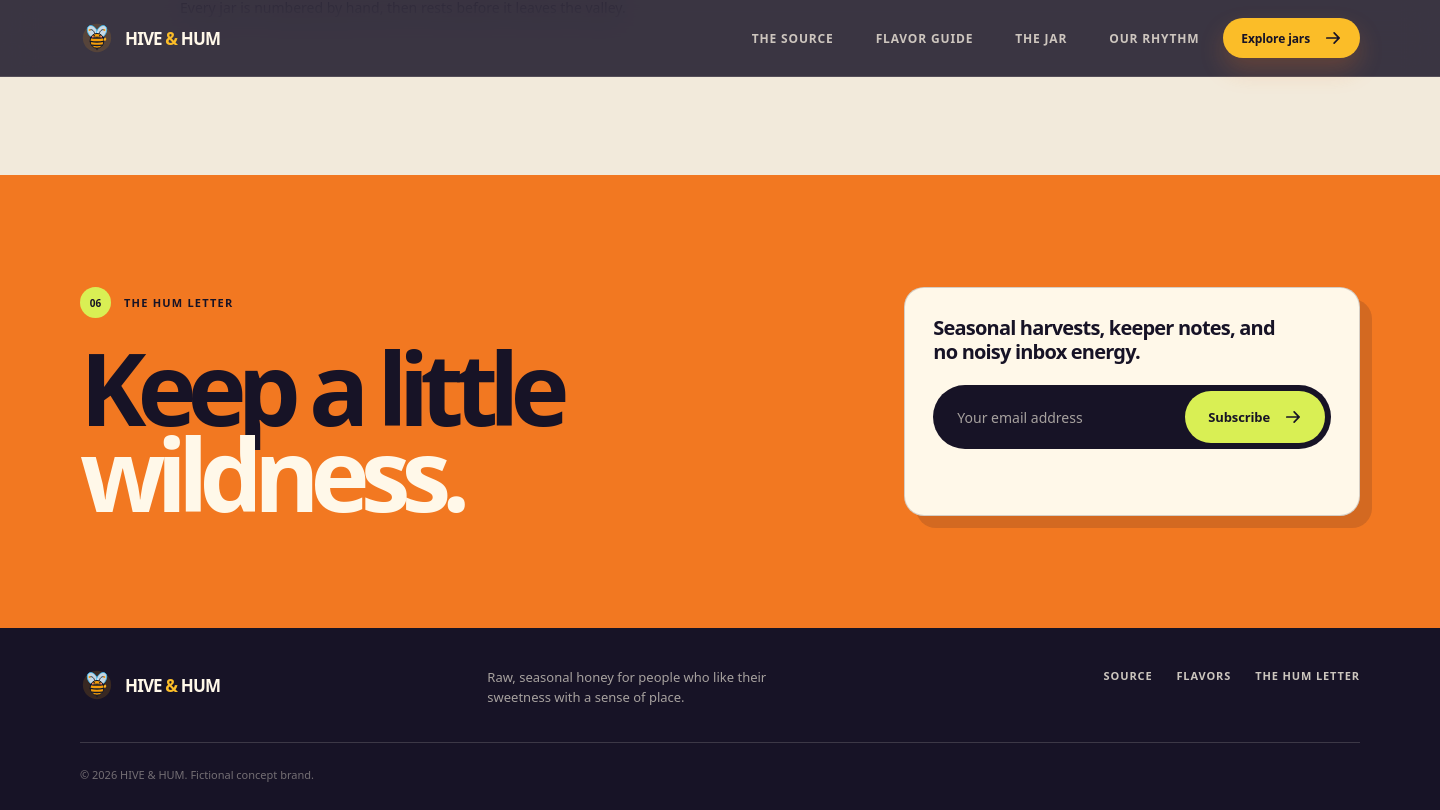
it: HIVE & HUM editorial landing page contract › handles valid newsletter submission with success confirmation
The image size is (1440, 810).
(page scrolled)
Type "beekeeper@example.com" into the field with placeholder "Your email address" at (1058, 417), box x1=939 y1=391 x2=1177 y2=443
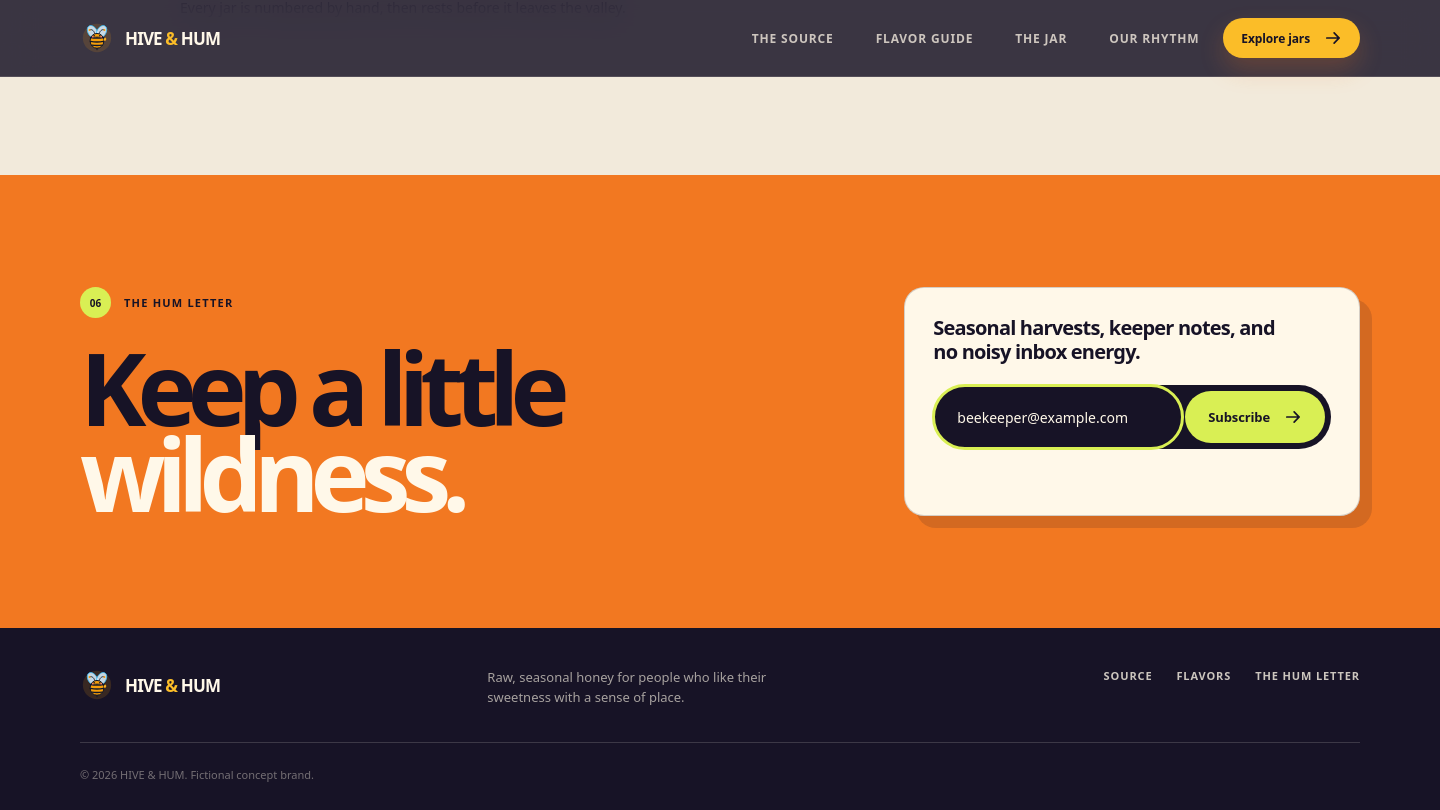
Click the button "Subscribe" at (1255, 417), box x1=1185 y1=391 x2=1325 y2=443
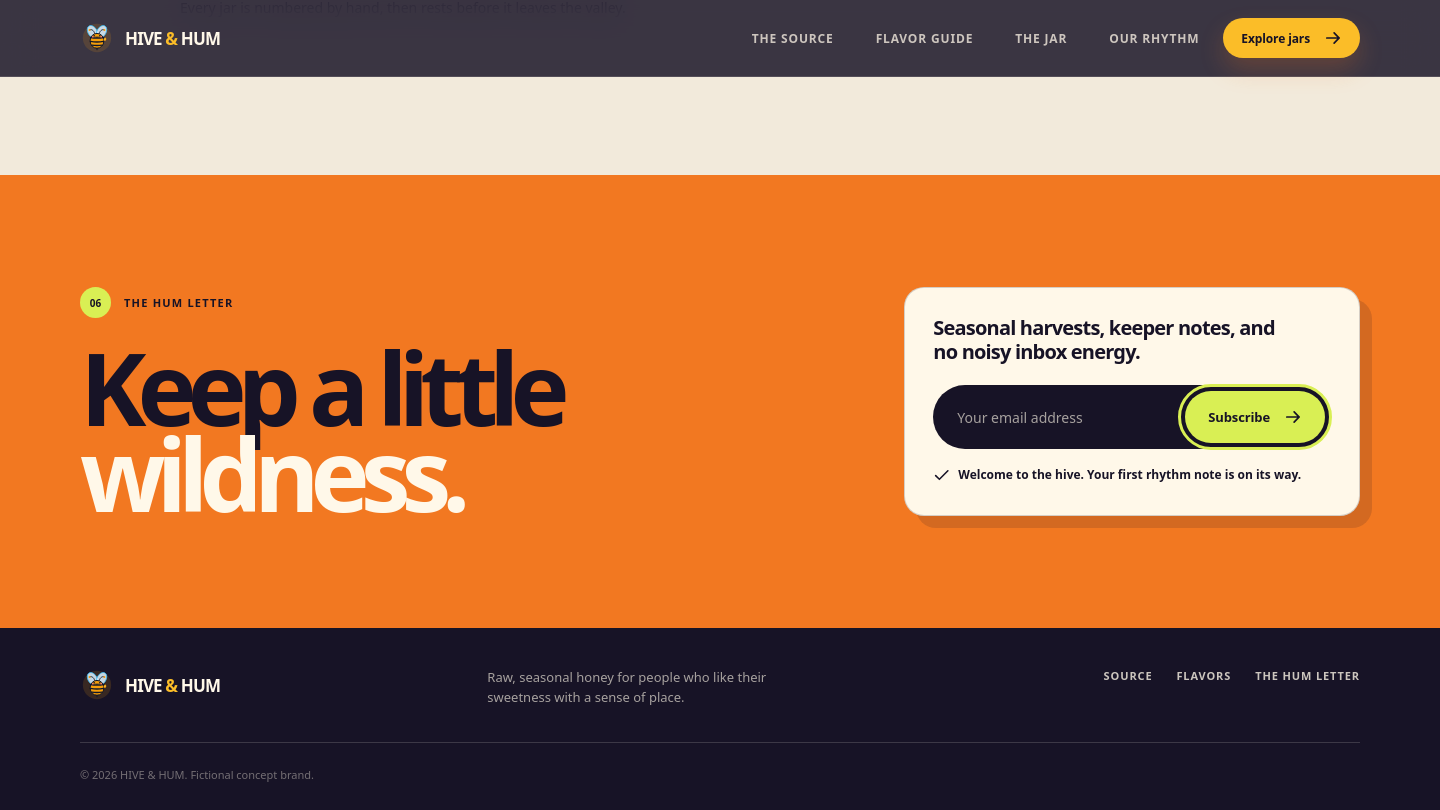
Check: the message shows "first rhythm note is on its way", box x1=958 y1=466 x2=1301 y2=483
Check: the field with placeholder "Your email address" is empty, box x1=939 y1=391 x2=1177 y2=443
